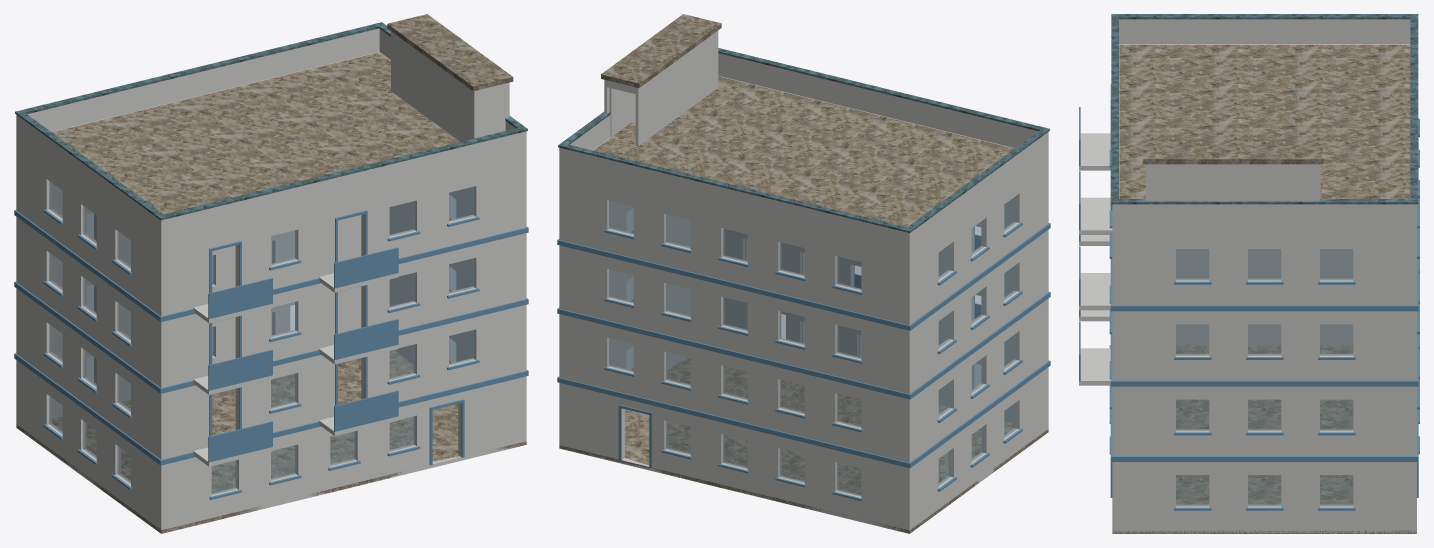
File: bay-apartments.coast-v1.lod1.glb
3 renders of one model, left to right at view 1: azimuth 30°, elevation 25°; view 2: azimuth 150°, elevation 25°; view 3: azimuth 270°, elevation 25°, orthographic. The views are drawn at different scales.
Visible parts, largest first — view 1: bay-apartments; view 2: bay-apartments; view 3: bay-apartments.
Part boxes in pixels (x1,y1,x2,y2): bay-apartments: (14,14,528,533); bay-apartments: (557,14,1050,533); bay-apartments: (1079,14,1419,533).
Bounding box in the file's own units: 16.2 × 14.95 × 12.3.
3 materials, 1 textured.
